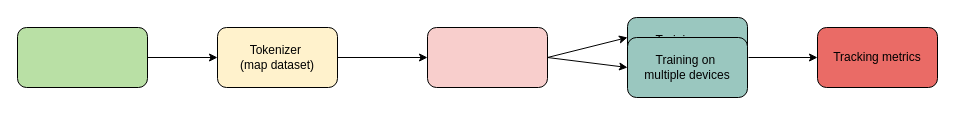
Image size: 955x115. Some labels were removed from this diagram. Here are the shapes that lost their labels. From the top down, the centre of each, then its label:
At [82,57]: "En-Hu (Huggingface dataset)".
At [487,57]: "Dataloader".
